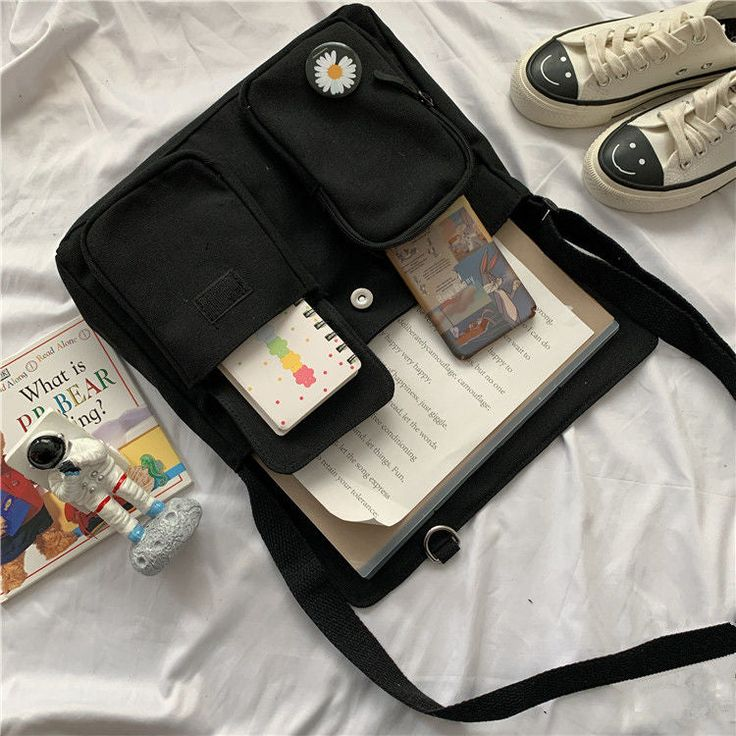nylon: (55, 4, 736, 724)
